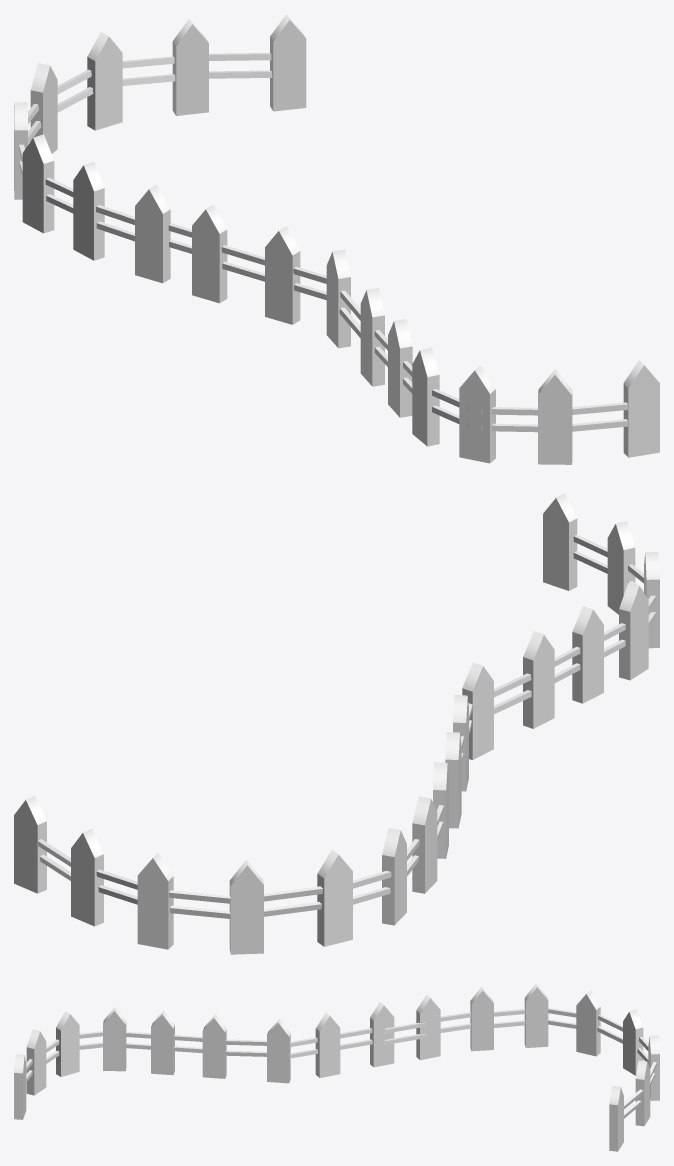
File: hangrao_2.fbx
The picture shows the model from 3 angles, top to bottom: view 1: azimuth 30°, elevation 25°; view 2: azimuth 150°, elevation 25°; view 3: azimuth 270°, elevation 25°; orthographic projection. The views are drawn at different scales.
Visible parts, largest first — view 1: pCube42; view 2: pCube42; view 3: pCube42.
Part boxes in pixels (x1=…): pCube42: x1=14, y1=14, x2=659, y2=464; pCube42: x1=14, y1=493, x2=659, y2=954; pCube42: x1=14, y1=983, x2=659, y2=1151.
Bounding box in the file's own units: 5.46 × 1.46 × 13.71.
Materials: 2 (2 with a texture image).
